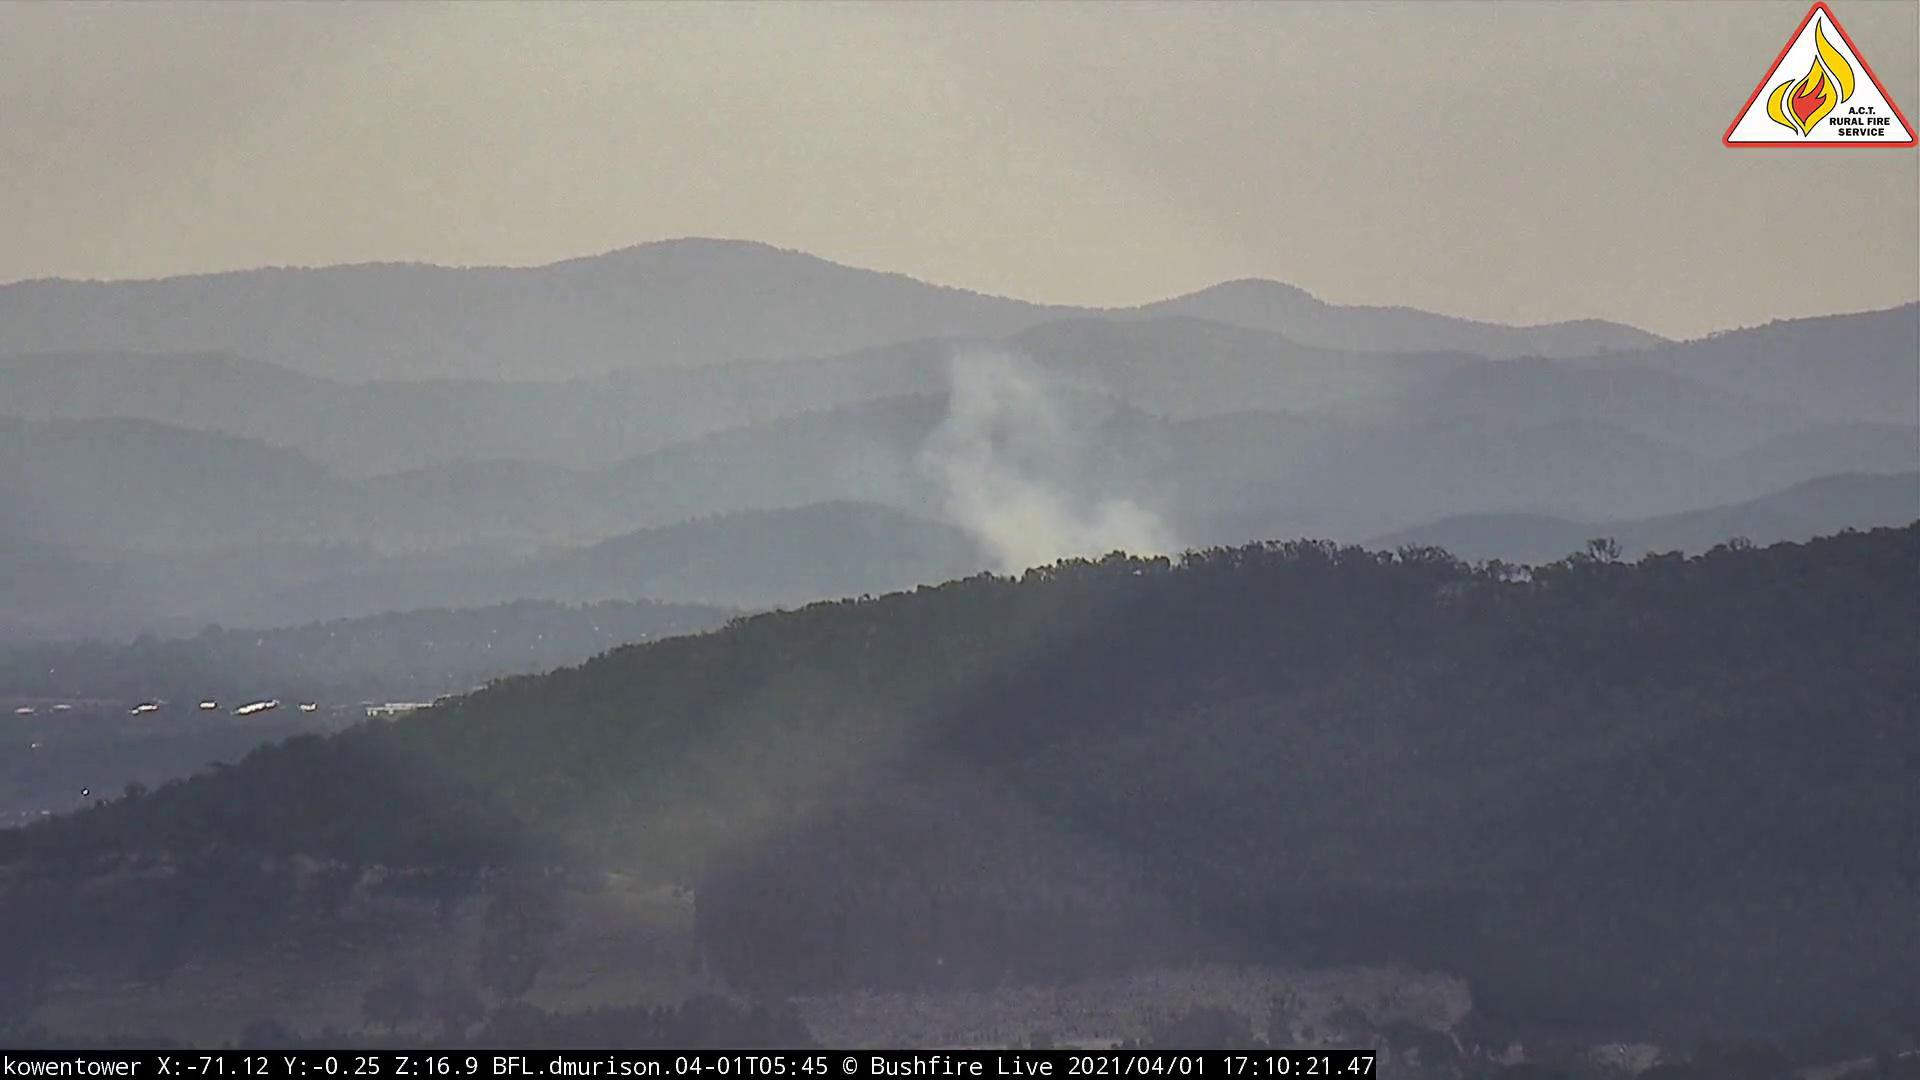Smoke: (843, 344, 1225, 607)
